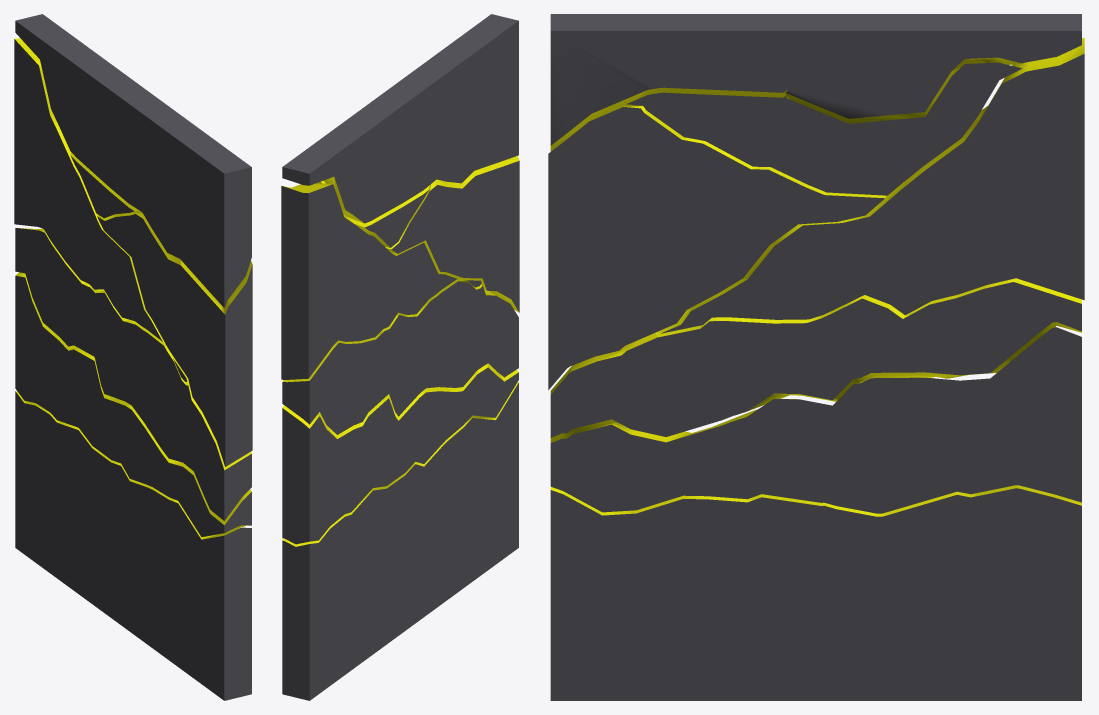
Rendered from ShatterdWall01.fbx.
The picture shows the model from 3 angles, left to right: view 1: azimuth 30°, elevation 25°; view 2: azimuth 150°, elevation 25°; view 3: azimuth 270°, elevation 25°; orthographic projection. The views are drawn at different scales.
Parts seen in each view (by area): view 1: shard3, shard1, shard4, shard7, shard5, shard2, shard6; view 2: shard3, shard1, shard2, shard4, shard5, shard7, shard6; view 3: shard3, shard5, shard2, shard7, shard1, shard4, shard6.
Boxes of the visible parts, box(x1,y1,x2,y2) form: shard3: box(15, 391, 251, 700); shard1: box(15, 14, 251, 307); shard4: box(15, 228, 251, 520); shard7: box(97, 213, 252, 466); shard5: box(15, 272, 251, 537); shard2: box(14, 38, 188, 381); shard6: box(70, 152, 142, 218); shard3: box(282, 382, 518, 700); shard1: box(282, 14, 518, 223); shard2: box(281, 183, 481, 379); shard4: box(282, 281, 518, 434); shard5: box(282, 363, 518, 544); shard7: box(385, 156, 519, 312); shard6: box(317, 180, 429, 247); shard3: box(550, 485, 1081, 700); shard5: box(550, 327, 1081, 513); shard2: box(659, 38, 1084, 333); shard7: box(548, 106, 885, 389); shard1: box(550, 14, 1081, 151); shard4: box(550, 278, 1081, 442); shard6: box(626, 62, 1022, 195).
Bounding box in the file's own units: 0.9283 × 17.08 × 12.38.
